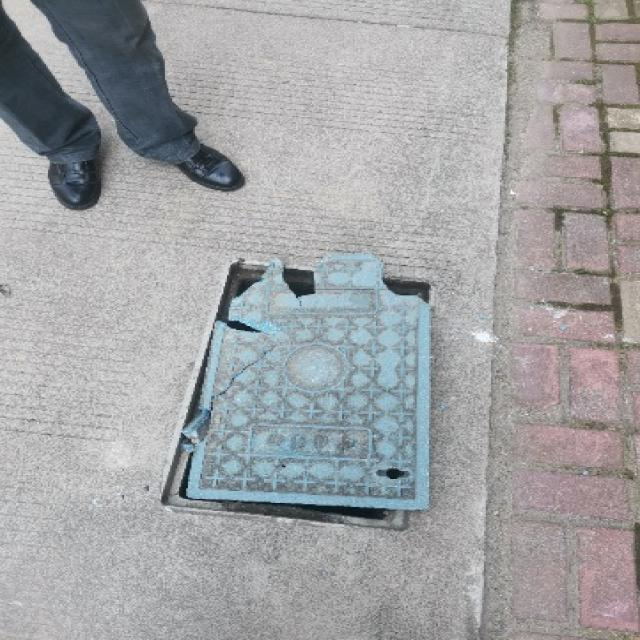Faulty: (157, 252, 456, 538)
